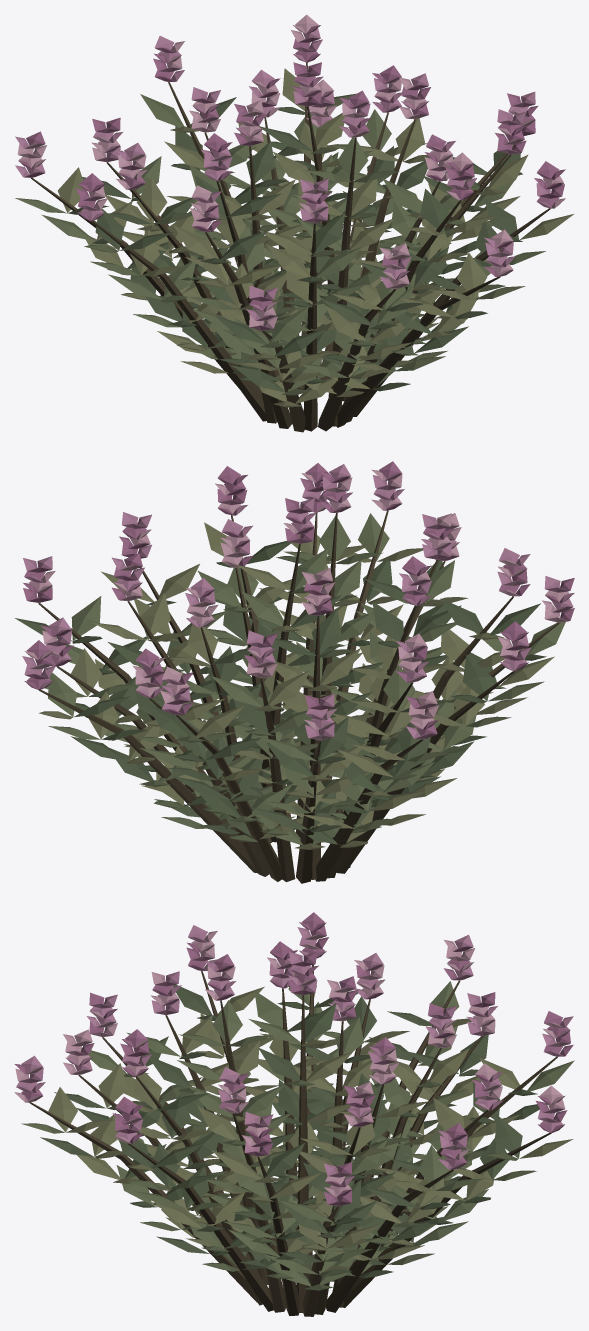
The model's file is shore-heather.glb.
3 renders of one model, top to bottom at view 1: azimuth 30°, elevation 25°; view 2: azimuth 150°, elevation 25°; view 3: azimuth 270°, elevation 25°, orthographic. The views are drawn at different scales.
Parts seen in each view (by area): view 1: Heather / low evergreen cushion and mauve flower spikes.001; view 2: Heather / low evergreen cushion and mauve flower spikes.001; view 3: Heather / low evergreen cushion and mauve flower spikes.001.
Boxes of the visible parts, bbox=[...] form: Heather / low evergreen cushion and mauve flower spikes.001: bbox=[15, 14, 573, 432]; Heather / low evergreen cushion and mauve flower spikes.001: bbox=[15, 461, 574, 883]; Heather / low evergreen cushion and mauve flower spikes.001: bbox=[14, 912, 574, 1316].
Bounding box in the file's own units: 1.25 × 0.866 × 1.29.
